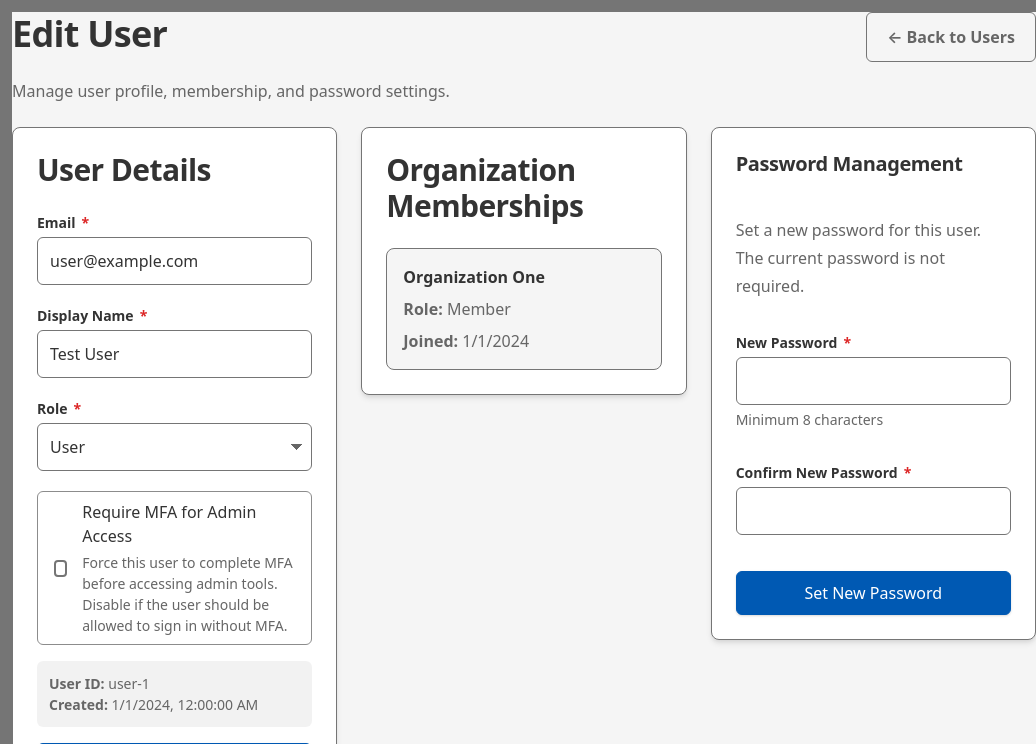
Test: AdminUserDetailPage › Password Management › shows error when passwords do not match
Expected: the form with test id "admin-password-set-form" is shown, [736,200,1011,615]
# Fill in the form with mismatched passwords
Type "NewPassword456!" into the password field with test id "new-password-input" at (873, 381), box [736,357,1011,405]
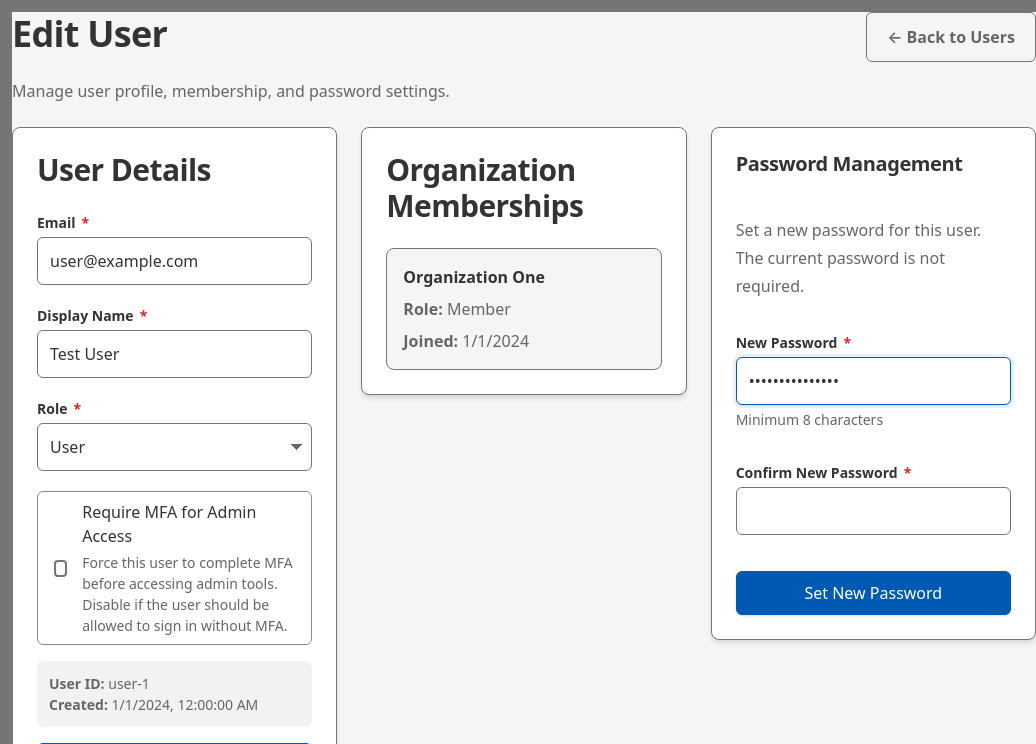
Type "DifferentPassword789!" into the password field with test id "confirm-password-input" at (873, 511), box [736,487,1011,535]
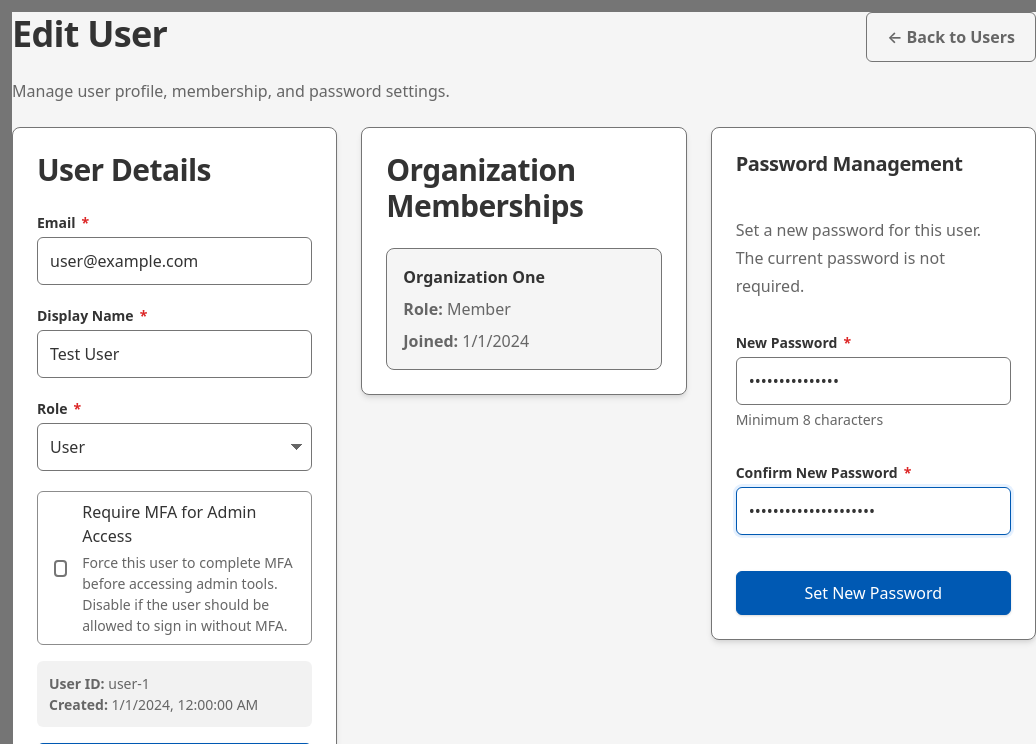
Click the button with test id "set-password-button" at (873, 593), box [736,571,1011,615]
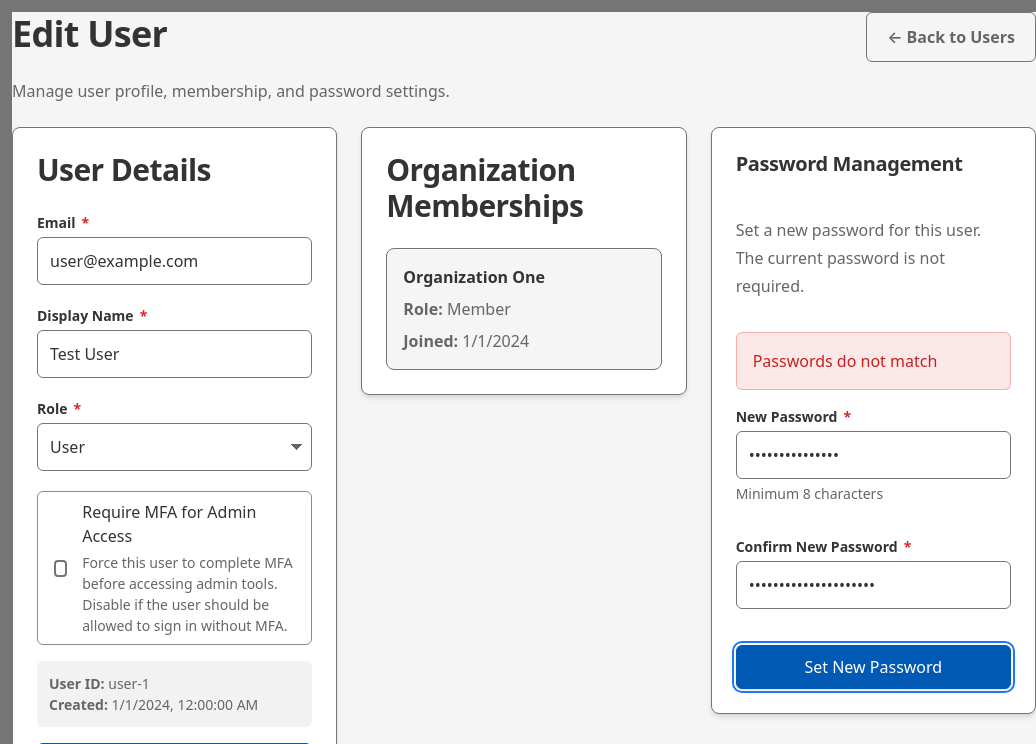
Expected: the text "Passwords do not match" is shown, [736,332,1011,390]
